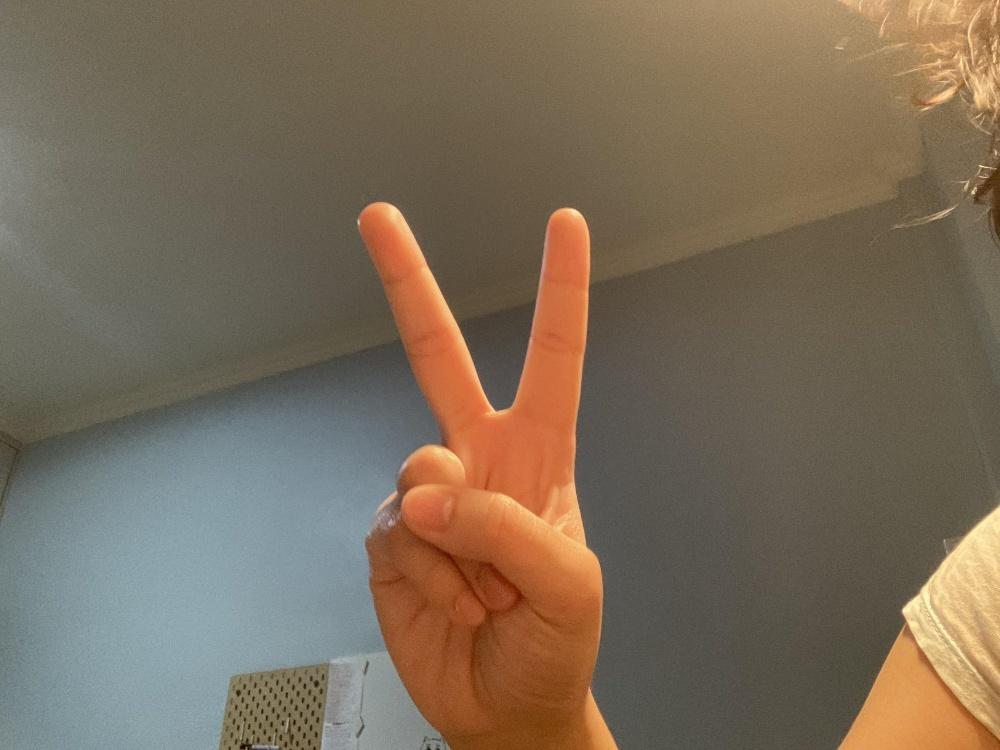v: (355, 199, 603, 733)
